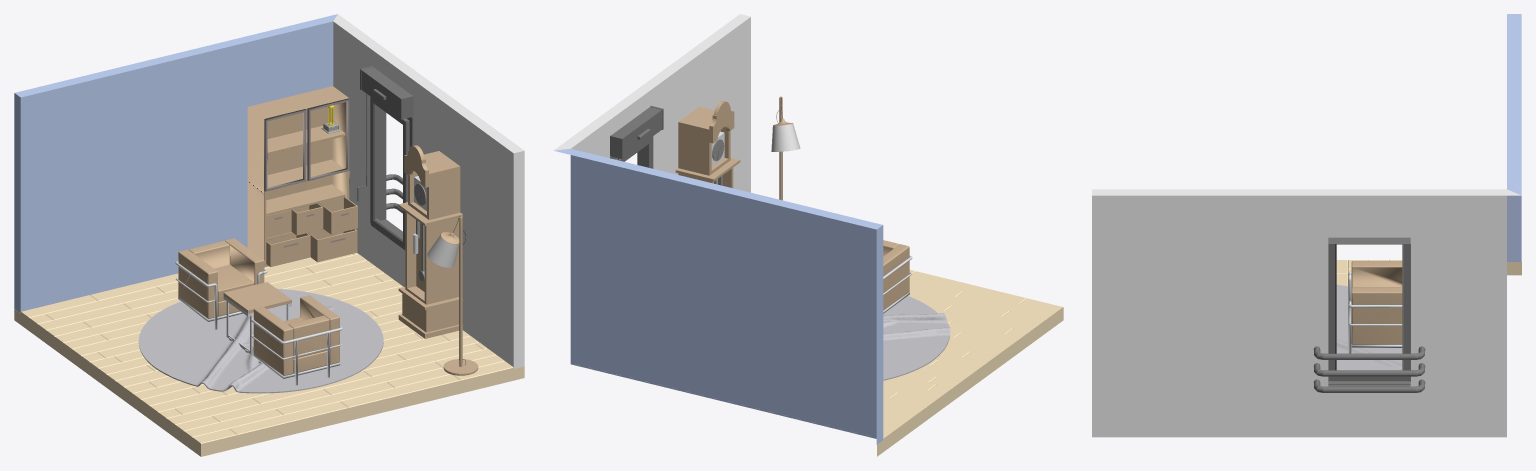
File: room.glb
3 views of the same model, side by side, from view 1: azimuth 30°, elevation 25°; view 2: azimuth 150°, elevation 25°; view 3: azimuth 270°, elevation 25° (orthographic). The views are drawn at different scales.
Parts seen in each view (by area): view 1: Wall, Floor, wall2, Shelf, Carpet, Clock, Other Chair, Window, Chair, Muuto_Pull_Floor_Lamp_high, Table; view 2: Wall, Floor, wall2, Carpet, Clock, Window, Other Chair, Muuto_Pull_Floor_Lamp_high; view 3: wall2, Window, Chair, Wall, Carpet, Floor.
Boxes of the visible parts, bbox=[...] form: Wall: bbox=[14, 14, 337, 312]; Floor: bbox=[14, 253, 524, 456]; wall2: bbox=[333, 14, 524, 368]; Shelf: bbox=[247, 86, 357, 267]; Carpet: bbox=[138, 288, 383, 393]; Clock: bbox=[398, 145, 462, 338]; Other Chair: bbox=[251, 295, 342, 385]; Window: bbox=[357, 66, 413, 249]; Chair: bbox=[175, 238, 267, 329]; Muuto_Pull_Floor_Lamp_high: bbox=[427, 216, 478, 375]; Table: bbox=[223, 282, 291, 353]; Wall: bbox=[554, 148, 883, 444]; Floor: bbox=[877, 269, 1063, 456]; wall2: bbox=[554, 14, 750, 192]; Carpet: bbox=[883, 296, 950, 380]; Clock: bbox=[675, 101, 740, 188]; Window: bbox=[610, 105, 663, 168]; Other Chair: bbox=[883, 240, 912, 313]; Muuto_Pull_Floor_Lamp_high: bbox=[771, 96, 800, 200]; wall2: bbox=[1092, 189, 1521, 437]; Window: bbox=[1313, 237, 1425, 392]; Chair: bbox=[1348, 261, 1402, 353]; Wall: bbox=[1507, 14, 1521, 261]; Carpet: bbox=[1336, 284, 1402, 370]; Floor: bbox=[1336, 260, 1521, 286].
Size of what is drawn, in the model's own units: 101 by 64.54 by 96.15.
